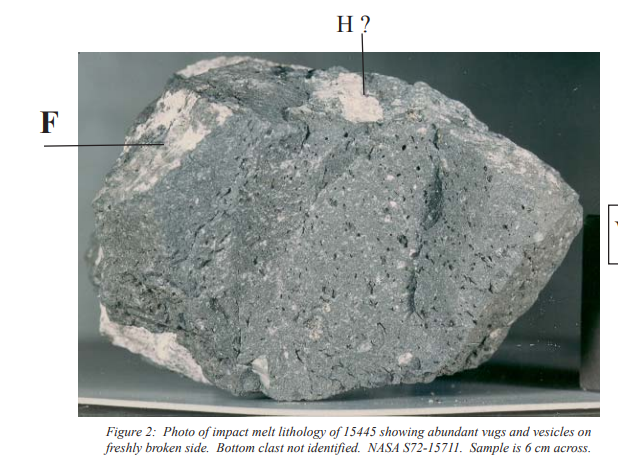Breccia: (109, 63, 582, 392), (197, 162, 544, 356)
